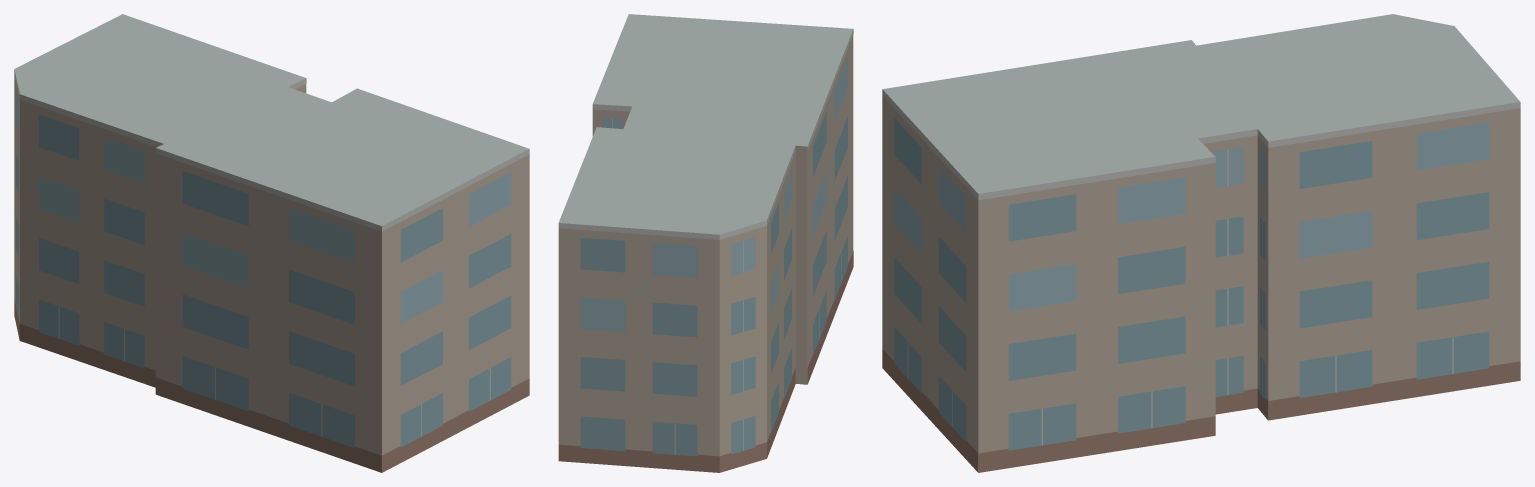
The model's file is survey-upis-32849879.glb.
3 renders of one model, left to right at view 1: azimuth 30°, elevation 25°; view 2: azimuth 150°, elevation 25°; view 3: azimuth 270°, elevation 25°, orthographic. The views are drawn at different scales.
Parts seen in each view (by area): view 1: survey-upis-32849879.tmp; view 2: survey-upis-32849879.tmp; view 3: survey-upis-32849879.tmp.
Boxes of the visible parts, x1,y1,x2,y2 form: survey-upis-32849879.tmp: (14, 14, 529, 472); survey-upis-32849879.tmp: (558, 14, 853, 472); survey-upis-32849879.tmp: (882, 14, 1520, 472).
Bounding box in the file's own units: 15.17 × 10.95 × 22.72.
